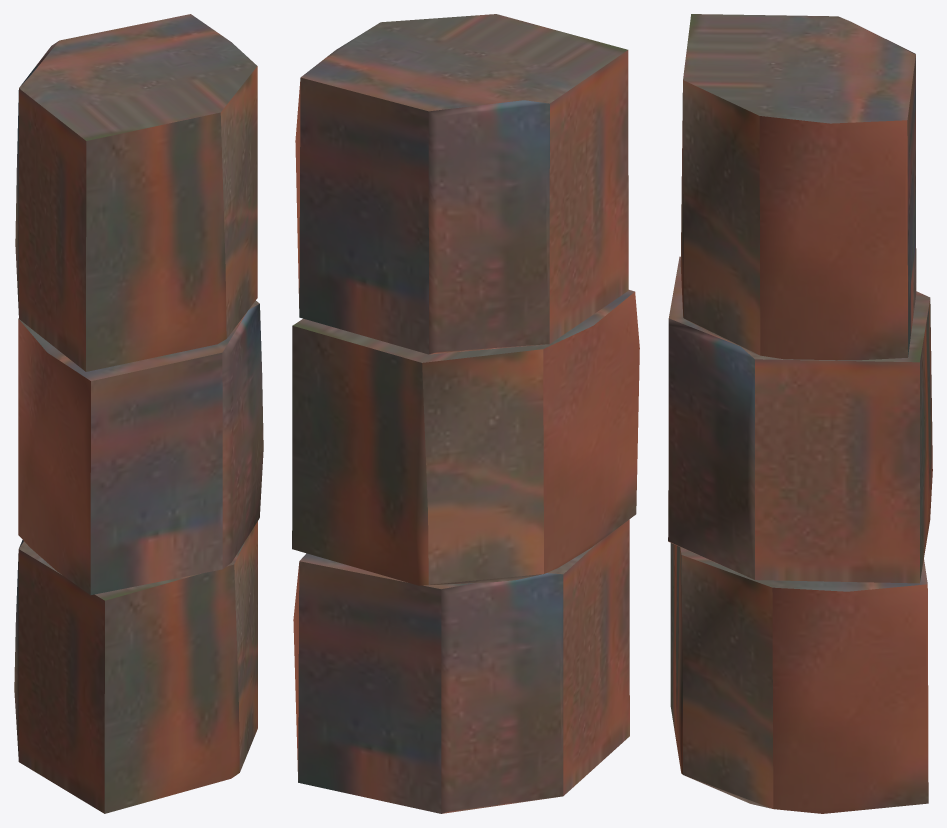
The picture shows the model from 3 angles, left to right: view 1: azimuth 30°, elevation 25°; view 2: azimuth 150°, elevation 25°; view 3: azimuth 270°, elevation 25°; orthographic projection. The views are drawn at different scales.
Visible parts, largest first — view 1: SM_GreatSword_Bronze_2H_01_LOD0; view 2: SM_GreatSword_Bronze_2H_01_LOD0; view 3: SM_GreatSword_Bronze_2H_01_LOD0.
Part boxes in pixels (box(x1,y1,x2,y2)): SM_GreatSword_Bronze_2H_01_LOD0: box(14, 14, 263, 813); SM_GreatSword_Bronze_2H_01_LOD0: box(292, 14, 639, 813); SM_GreatSword_Bronze_2H_01_LOD0: box(668, 14, 932, 813).
Size of the model in its own units: 2.13 by 6.22 by 2.13.
